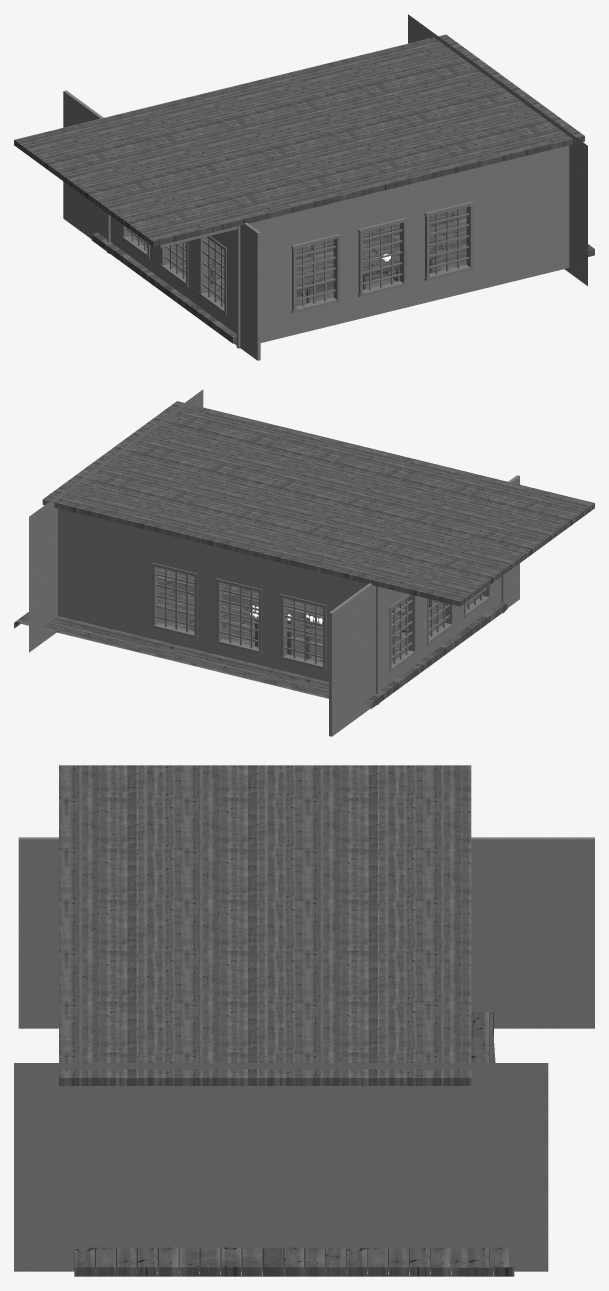
The model's file is Fabrik.glb.
3 views of the same model, one above another, from view 1: azimuth 30°, elevation 25°; view 2: azimuth 150°, elevation 25°; view 3: azimuth 270°, elevation 25° (orthographic). The views are drawn at different scales.
Parts seen in each view (by area): view 1: Plane; view 2: Plane; view 3: Plane.
Part boxes in pixels (left/top/right/bottom): Plane: left=14, top=14, right=594, bottom=360; Plane: left=14, top=389, right=594, bottom=736; Plane: left=14, top=765, right=594, bottom=1276.
Bounding box in the file's own units: 21.92 × 6.59 × 16.63.
Materials: 11 (4 with a texture image).
